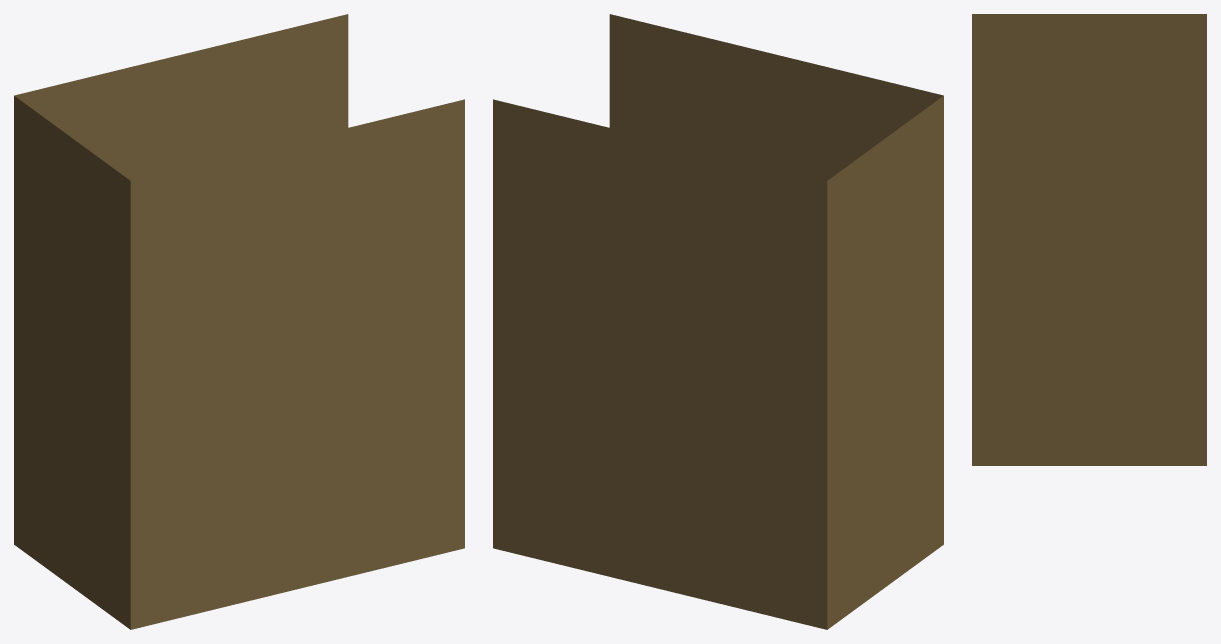
Rendered from Itr_Bartable_Body_Left_01.FBX.
3 renders of one model, left to right at view 1: azimuth 30°, elevation 25°; view 2: azimuth 150°, elevation 25°; view 3: azimuth 270°, elevation 25°, orthographic.
Visible parts, largest first — view 1: Itr_Bartable_Body_Left_01; view 2: Itr_Bartable_Body_Left_01; view 3: Itr_Bartable_Body_Left_01.
Boxes of the visible parts, bbox=[...] form: Itr_Bartable_Body_Left_01: bbox=[14, 14, 464, 629]; Itr_Bartable_Body_Left_01: bbox=[493, 14, 943, 629]; Itr_Bartable_Body_Left_01: bbox=[972, 14, 1206, 465].
Size of the model in its own units: 20.04 by 25.73 by 12.11.
